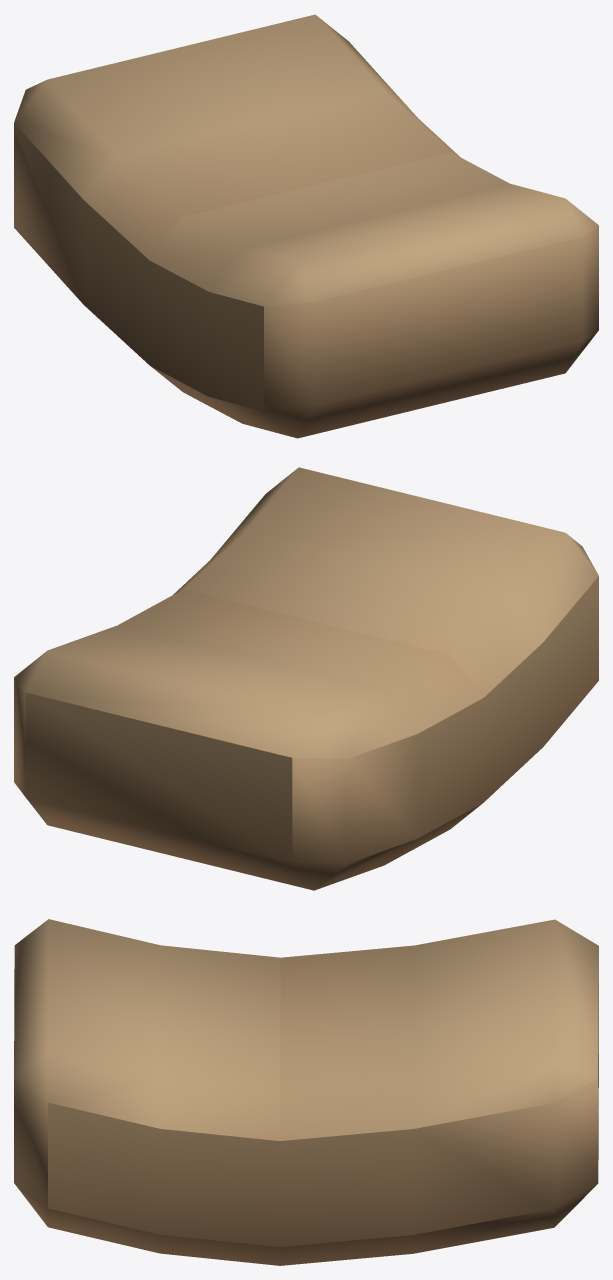
The model's file is sack.glb.
3 renders of one model, top to bottom at view 1: azimuth 30°, elevation 25°; view 2: azimuth 150°, elevation 25°; view 3: azimuth 270°, elevation 25°, orthographic.
Parts seen in each view (by area): view 1: sack; view 2: sack; view 3: sack.
Boxes of the visible parts, x1=… form: sack: x1=14, y1=14, x2=598, y2=438; sack: x1=14, y1=467, x2=598, y2=890; sack: x1=14, y1=919, x2=598, y2=1265.
Size of the model in its own units: 0.6677 by 0.4054 by 1.
